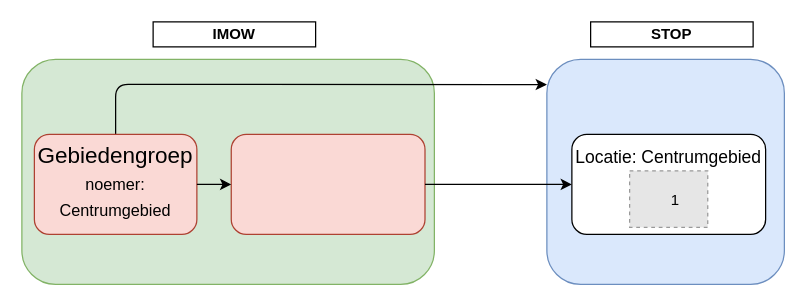
Image size: 806x306. Some labels were removed from this diagram. Grey dashed boxes stand in for pictures. Each missing label, with the box of its shape:
Gebied (1): (230, 133, 425, 234)
GIO Centrumgebied: (546, 58, 784, 284)
